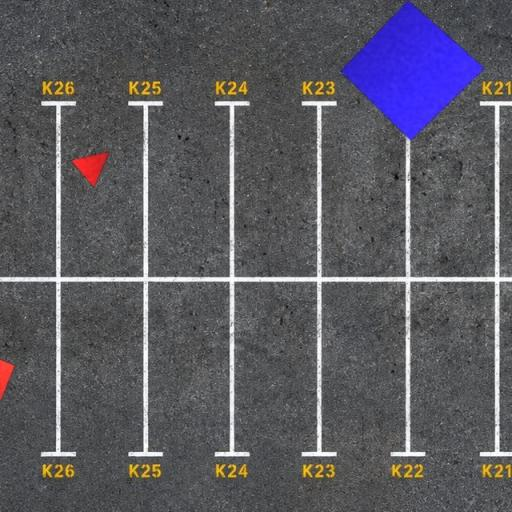BLUE_SQUARE: (340, 0, 486, 142)
